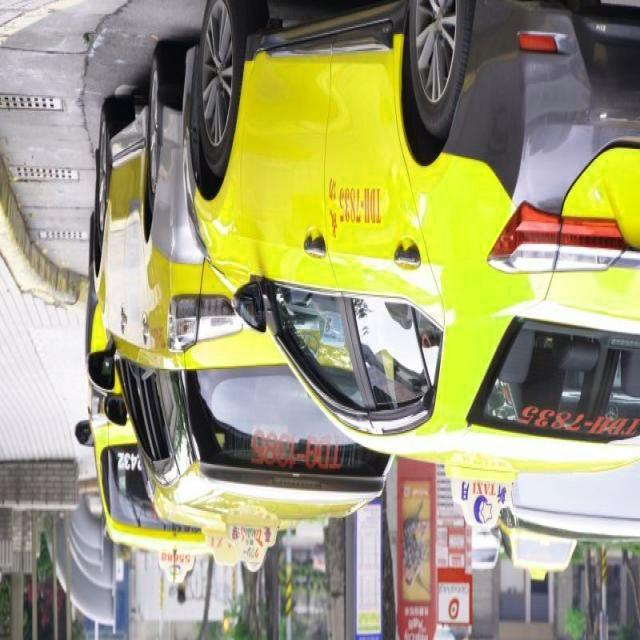taxi: (219, 13, 640, 462), (117, 144, 393, 537), (69, 458, 216, 595)
